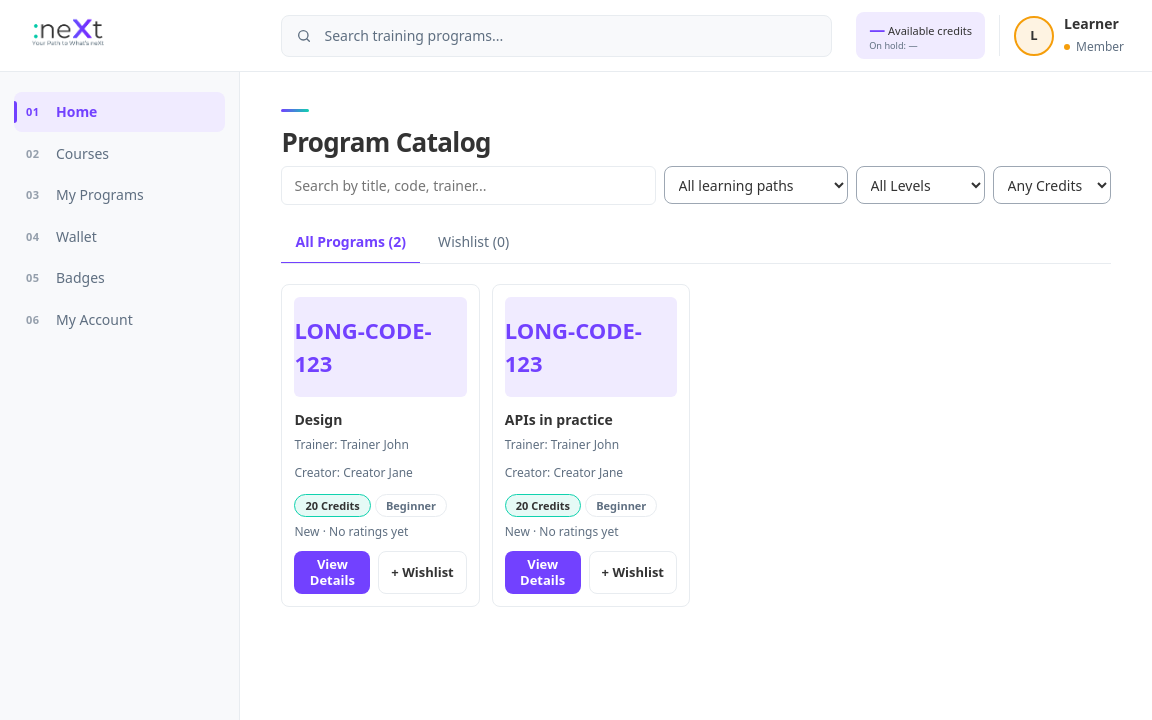
Test case: filters the member catalog by learning path
The width and height of the screenshot is (1152, 720).
Select "Software engineering" in the dropdown named "Learning path": (756, 185) [664,166,848,204]
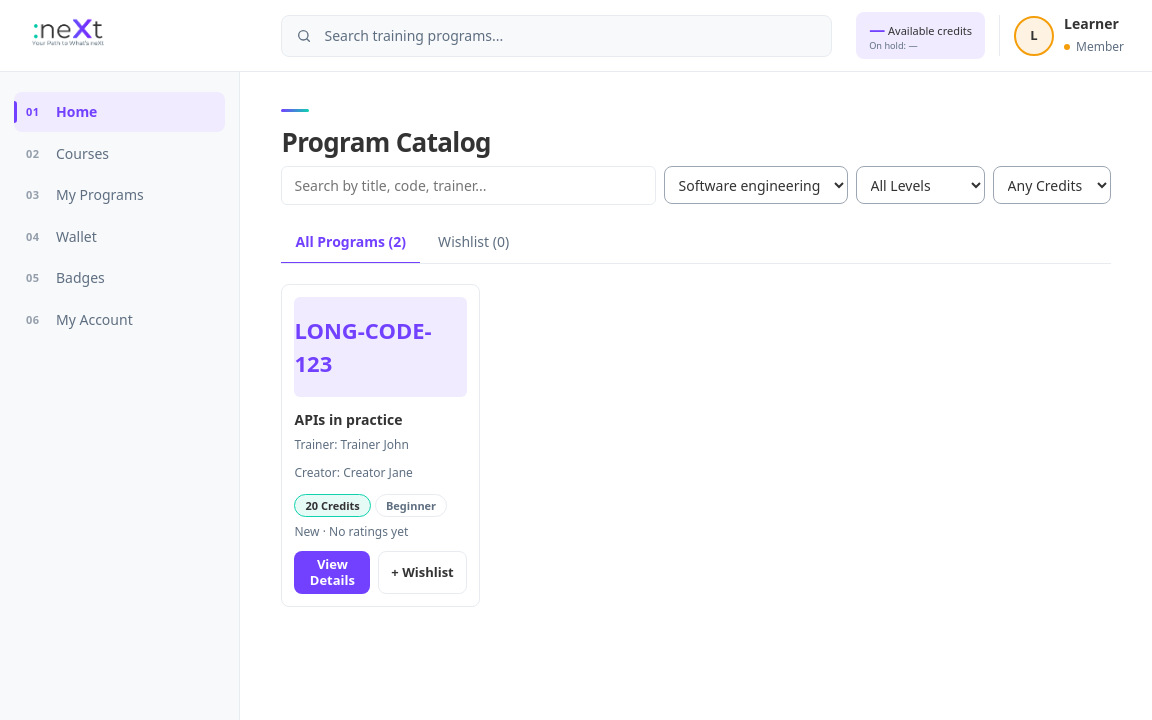
Expected: the heading "APIs in practice" is shown, [294,410,402,429]
Now the heading "Design" is gone
